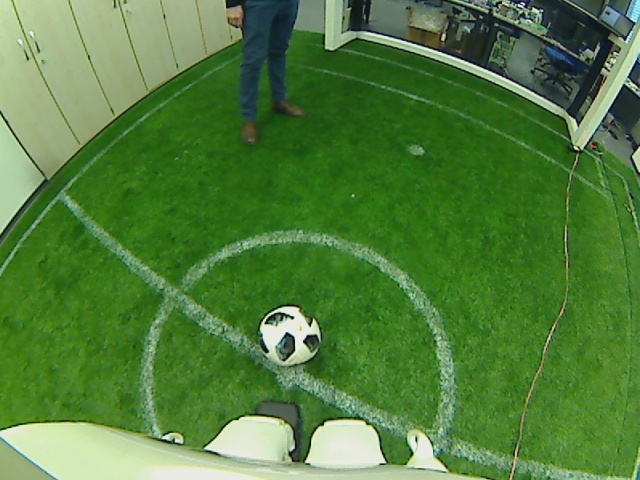ball: (255, 305, 324, 367)
